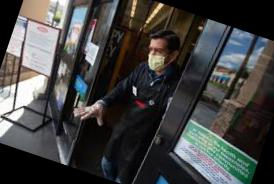with_mask: (142, 41, 172, 76)
